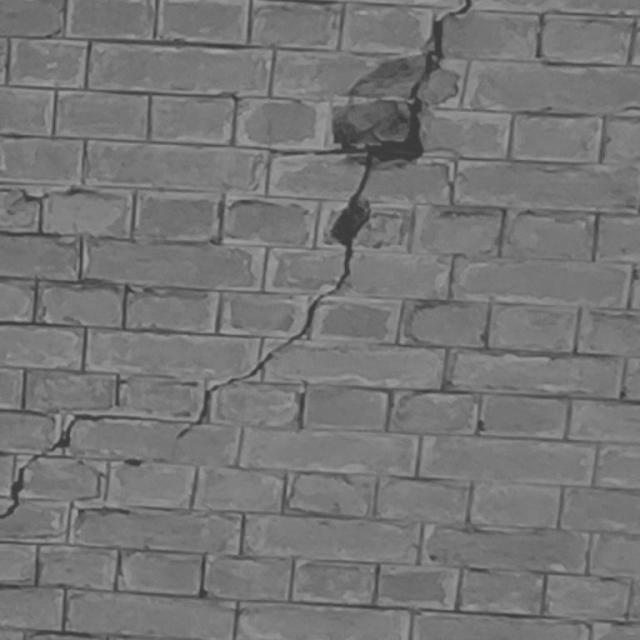crack: (175, 1, 472, 441), (1, 413, 108, 519)
